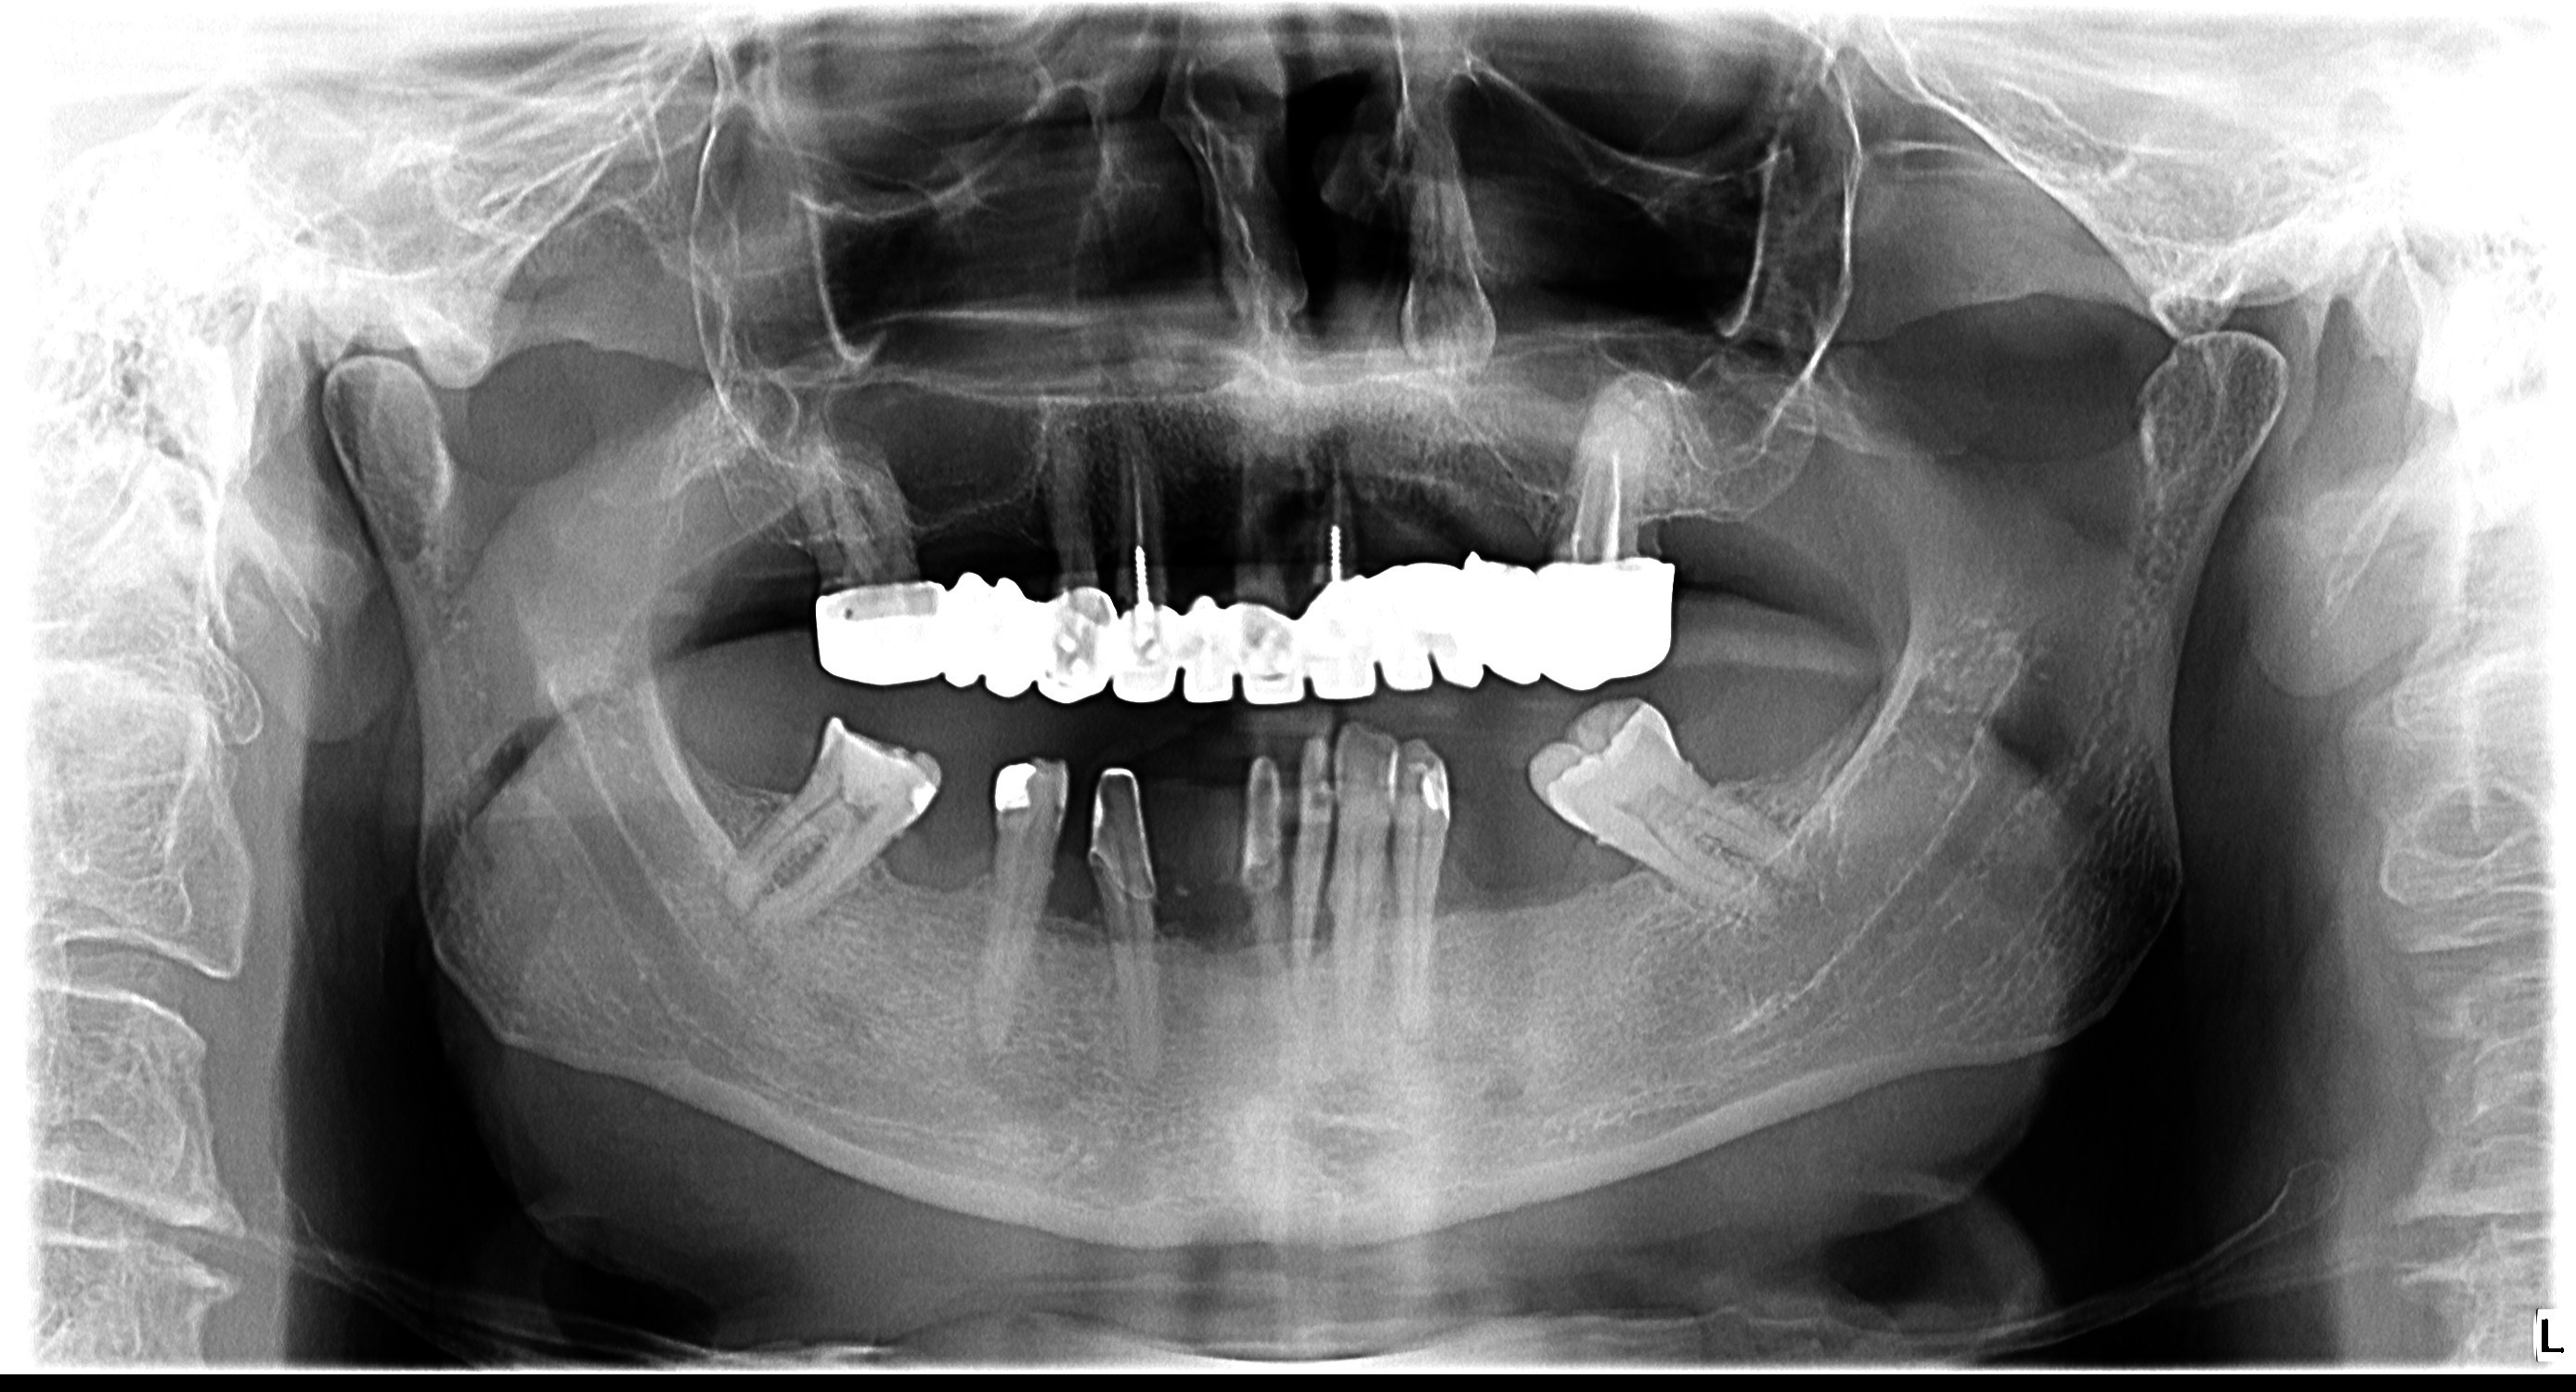BON: (1064, 857, 1118, 962), (1134, 849, 1187, 955), (1261, 838, 1309, 955), (1298, 850, 1343, 969), (1362, 845, 1415, 939), (1031, 850, 1072, 948), (1425, 843, 1466, 931), (968, 835, 1007, 905)
CAR: (976, 795, 1040, 828), (1038, 790, 1082, 833)
END: (1569, 423, 1637, 566), (1317, 420, 1357, 526), (1117, 432, 1153, 547)
OBT: (885, 766, 956, 831), (981, 749, 1055, 811), (1413, 751, 1468, 831)
PRR: (769, 555, 1699, 711)
